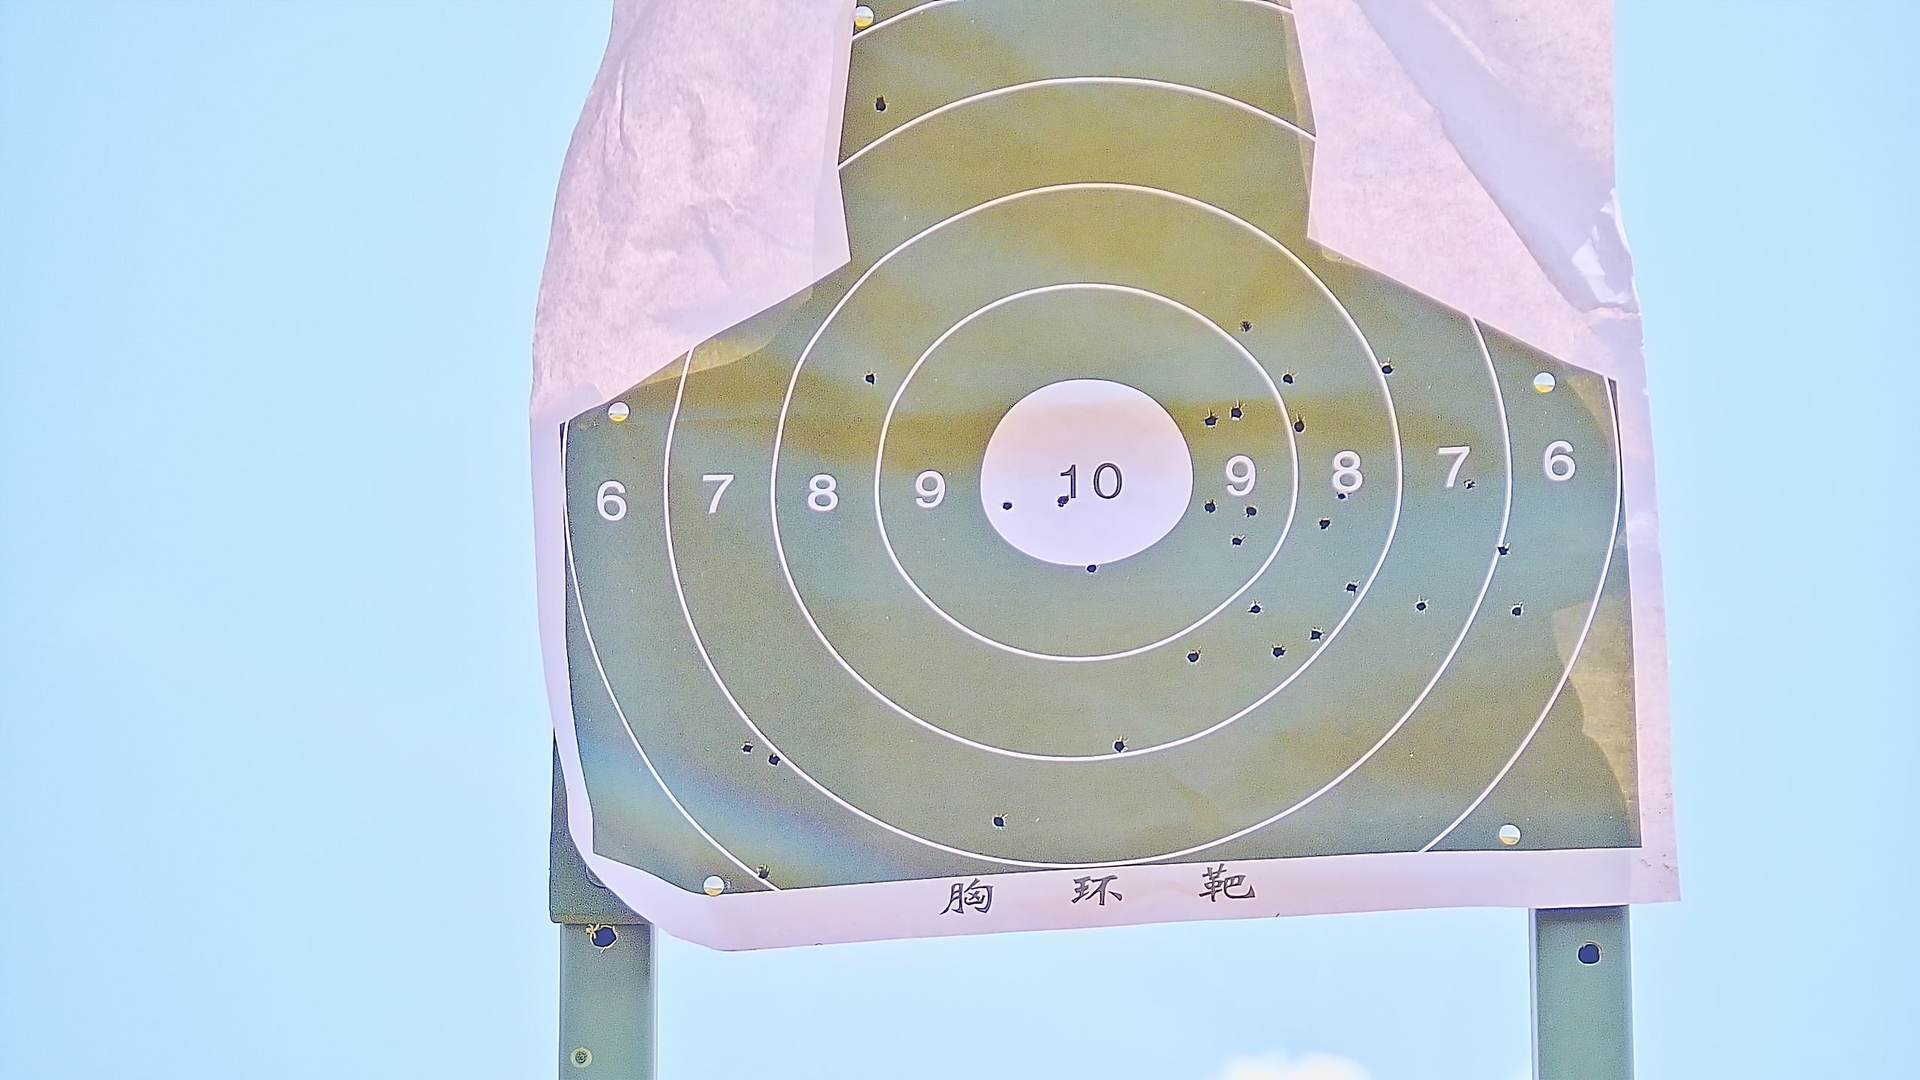hole: (992, 812, 1010, 829), (1495, 542, 1511, 560), (1414, 595, 1429, 613), (872, 98, 887, 113), (737, 738, 753, 754), (1270, 641, 1284, 658), (1203, 498, 1218, 513), (1379, 360, 1395, 375), (1245, 502, 1259, 518), (767, 749, 781, 766), (1185, 650, 1203, 663), (1280, 372, 1295, 386), (1112, 738, 1127, 752), (1307, 626, 1323, 640), (1346, 580, 1360, 596), (1240, 316, 1251, 334), (1294, 415, 1305, 433), (1230, 533, 1244, 547), (1204, 410, 1216, 426), (1336, 488, 1348, 504), (1461, 479, 1473, 495), (1232, 401, 1242, 417), (1320, 516, 1331, 531), (864, 371, 876, 384), (1247, 601, 1261, 613), (1511, 605, 1523, 618), (756, 865, 769, 877), (1055, 493, 1069, 504), (1087, 559, 1096, 574), (1001, 498, 1011, 510)
kernel: (1083, 480, 1084, 483)
target: (563, 3, 1640, 903)
ten: (981, 380, 1193, 567)
